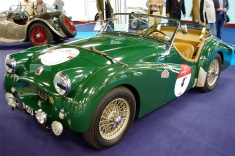car: (4, 13, 233, 150), (1, 7, 76, 45)
